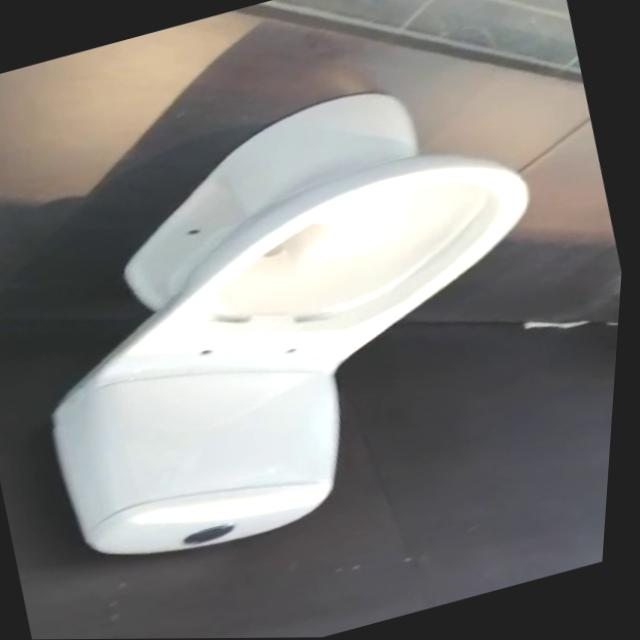toilet: (0, 53, 609, 583)
